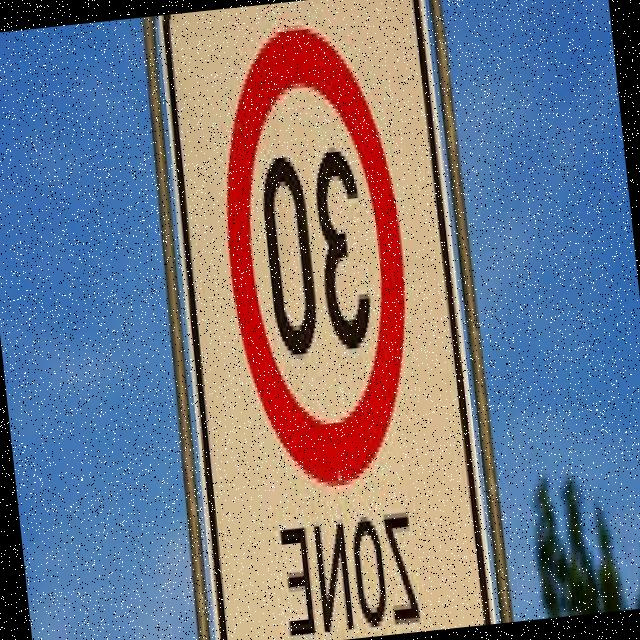speed_limit_30: (192, 18, 425, 509)
